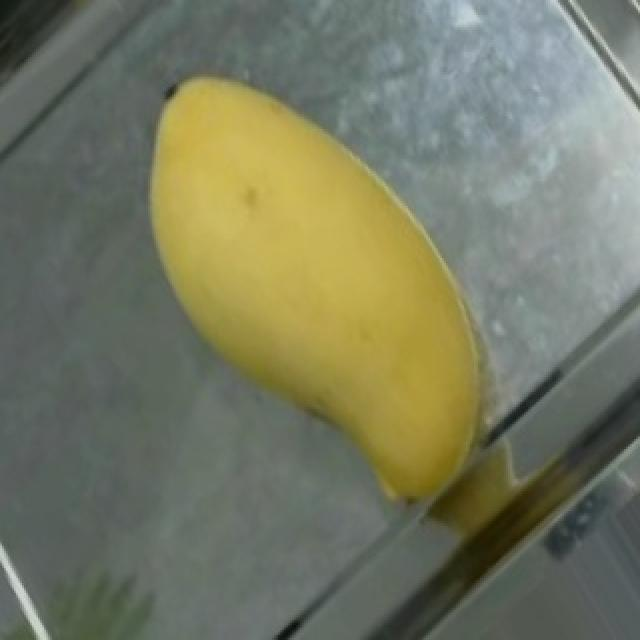fruit: (120, 42, 520, 489)
